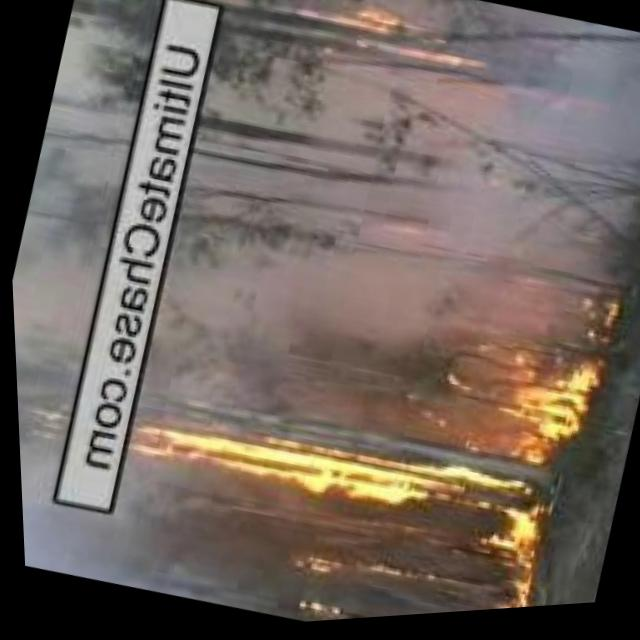Fire: (83, 378, 431, 534), (413, 339, 598, 619), (284, 0, 428, 77), (272, 537, 411, 607), (278, 595, 350, 627)
